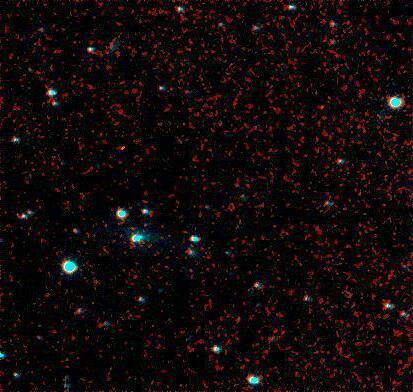star: (110, 134, 140, 164)
